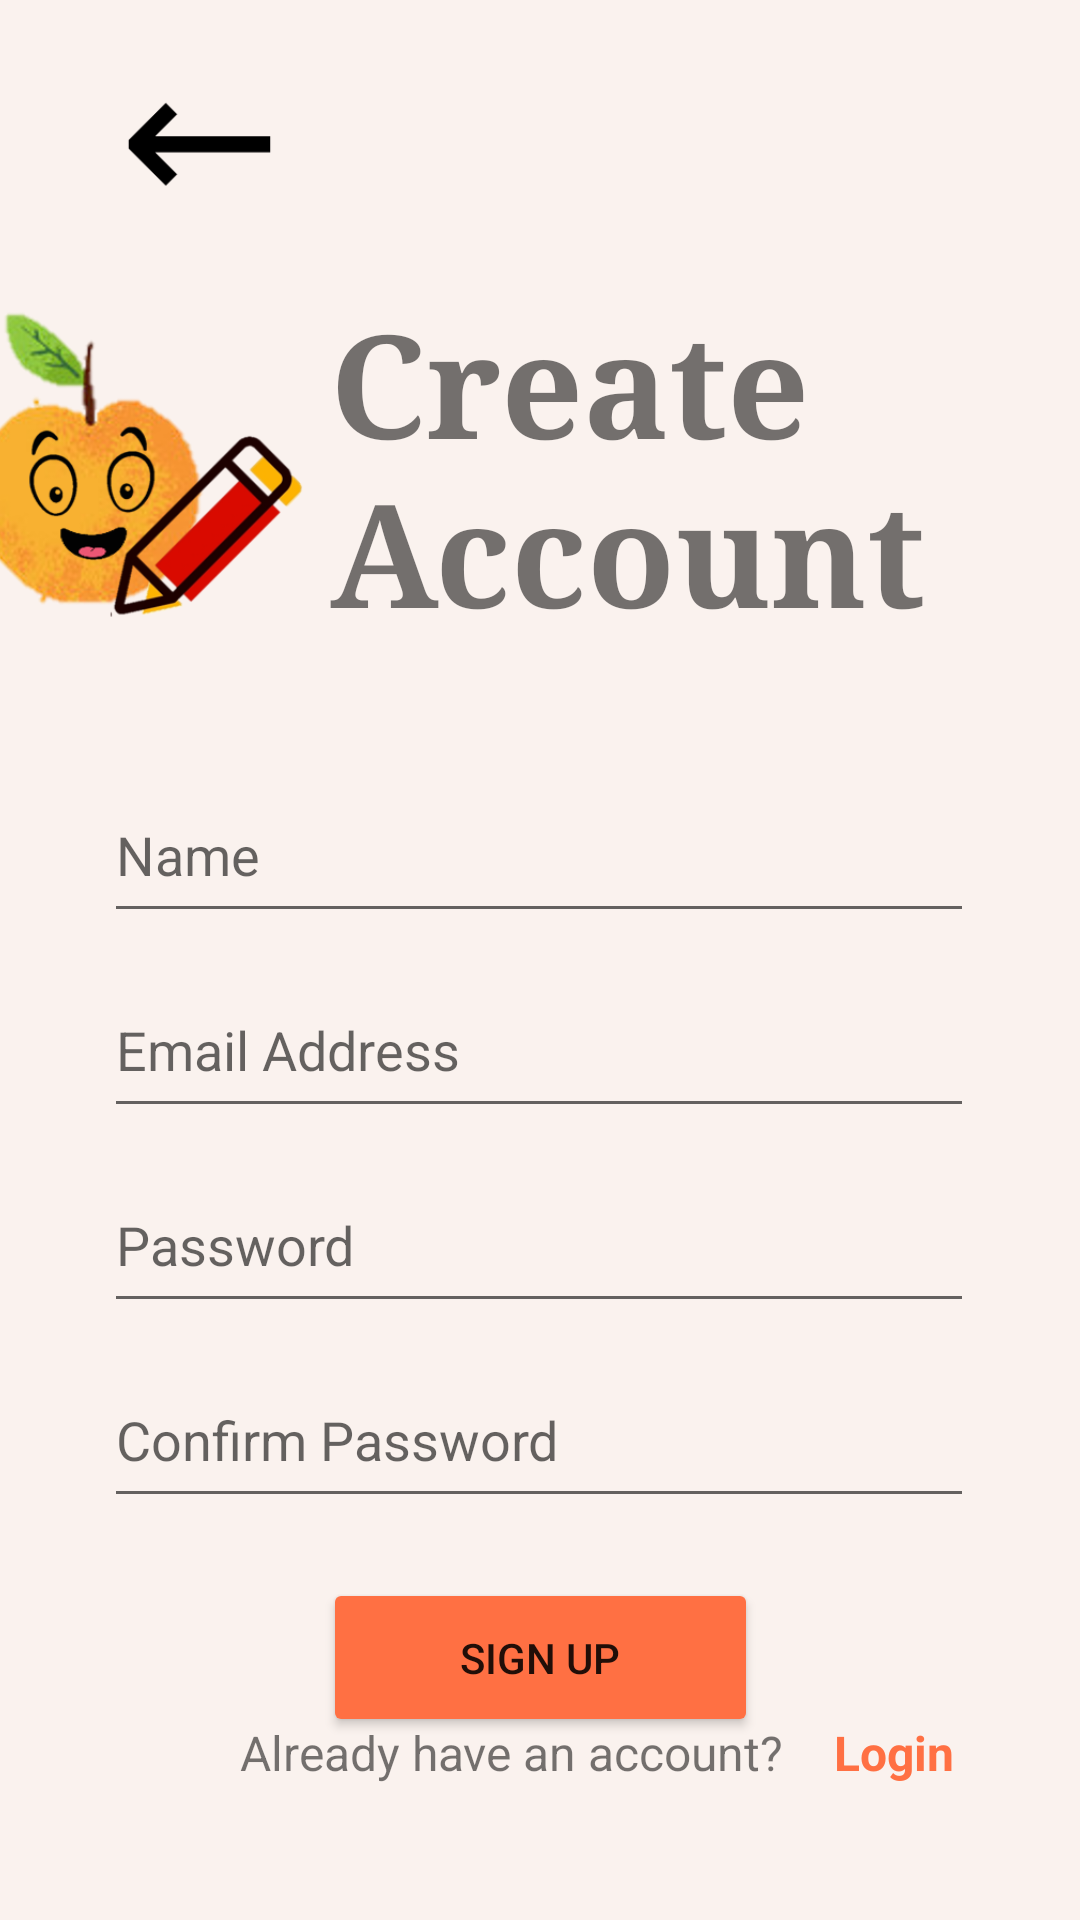

Where to tap for icons on this 1080x1920 app screen, as (x,y):
back: (199,144)
